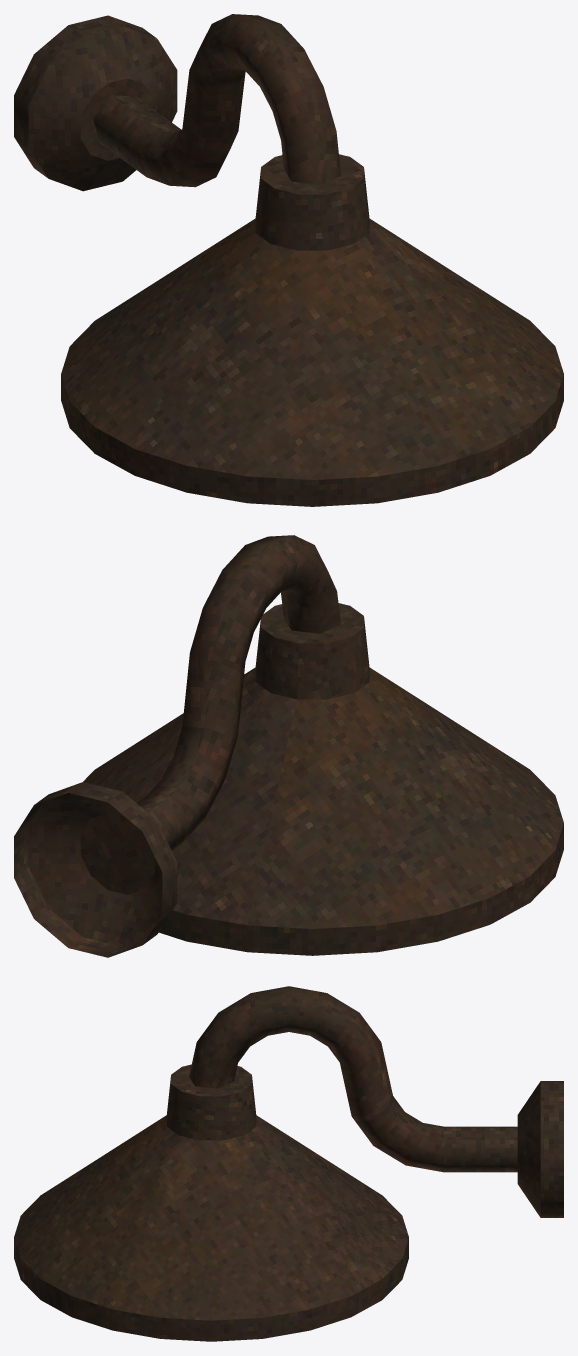
File: lamp_mx_3_on.glb
The picture shows the model from 3 angles, top to bottom: view 1: azimuth 30°, elevation 25°; view 2: azimuth 150°, elevation 25°; view 3: azimuth 270°, elevation 25°; orthographic projection. The views are drawn at different scales.
Visible parts, largest first — view 1: lamp_mx_3_on; view 2: lamp_mx_3_on; view 3: lamp_mx_3_on.
Boxes of the visible parts, x1,y1,x2,y2 form: lamp_mx_3_on: [14, 14, 563, 506]; lamp_mx_3_on: [14, 535, 563, 957]; lamp_mx_3_on: [14, 986, 563, 1341].
Size of the model in its own units: 0.51 by 0.418 by 0.71.
2 materials, 2 textured.
